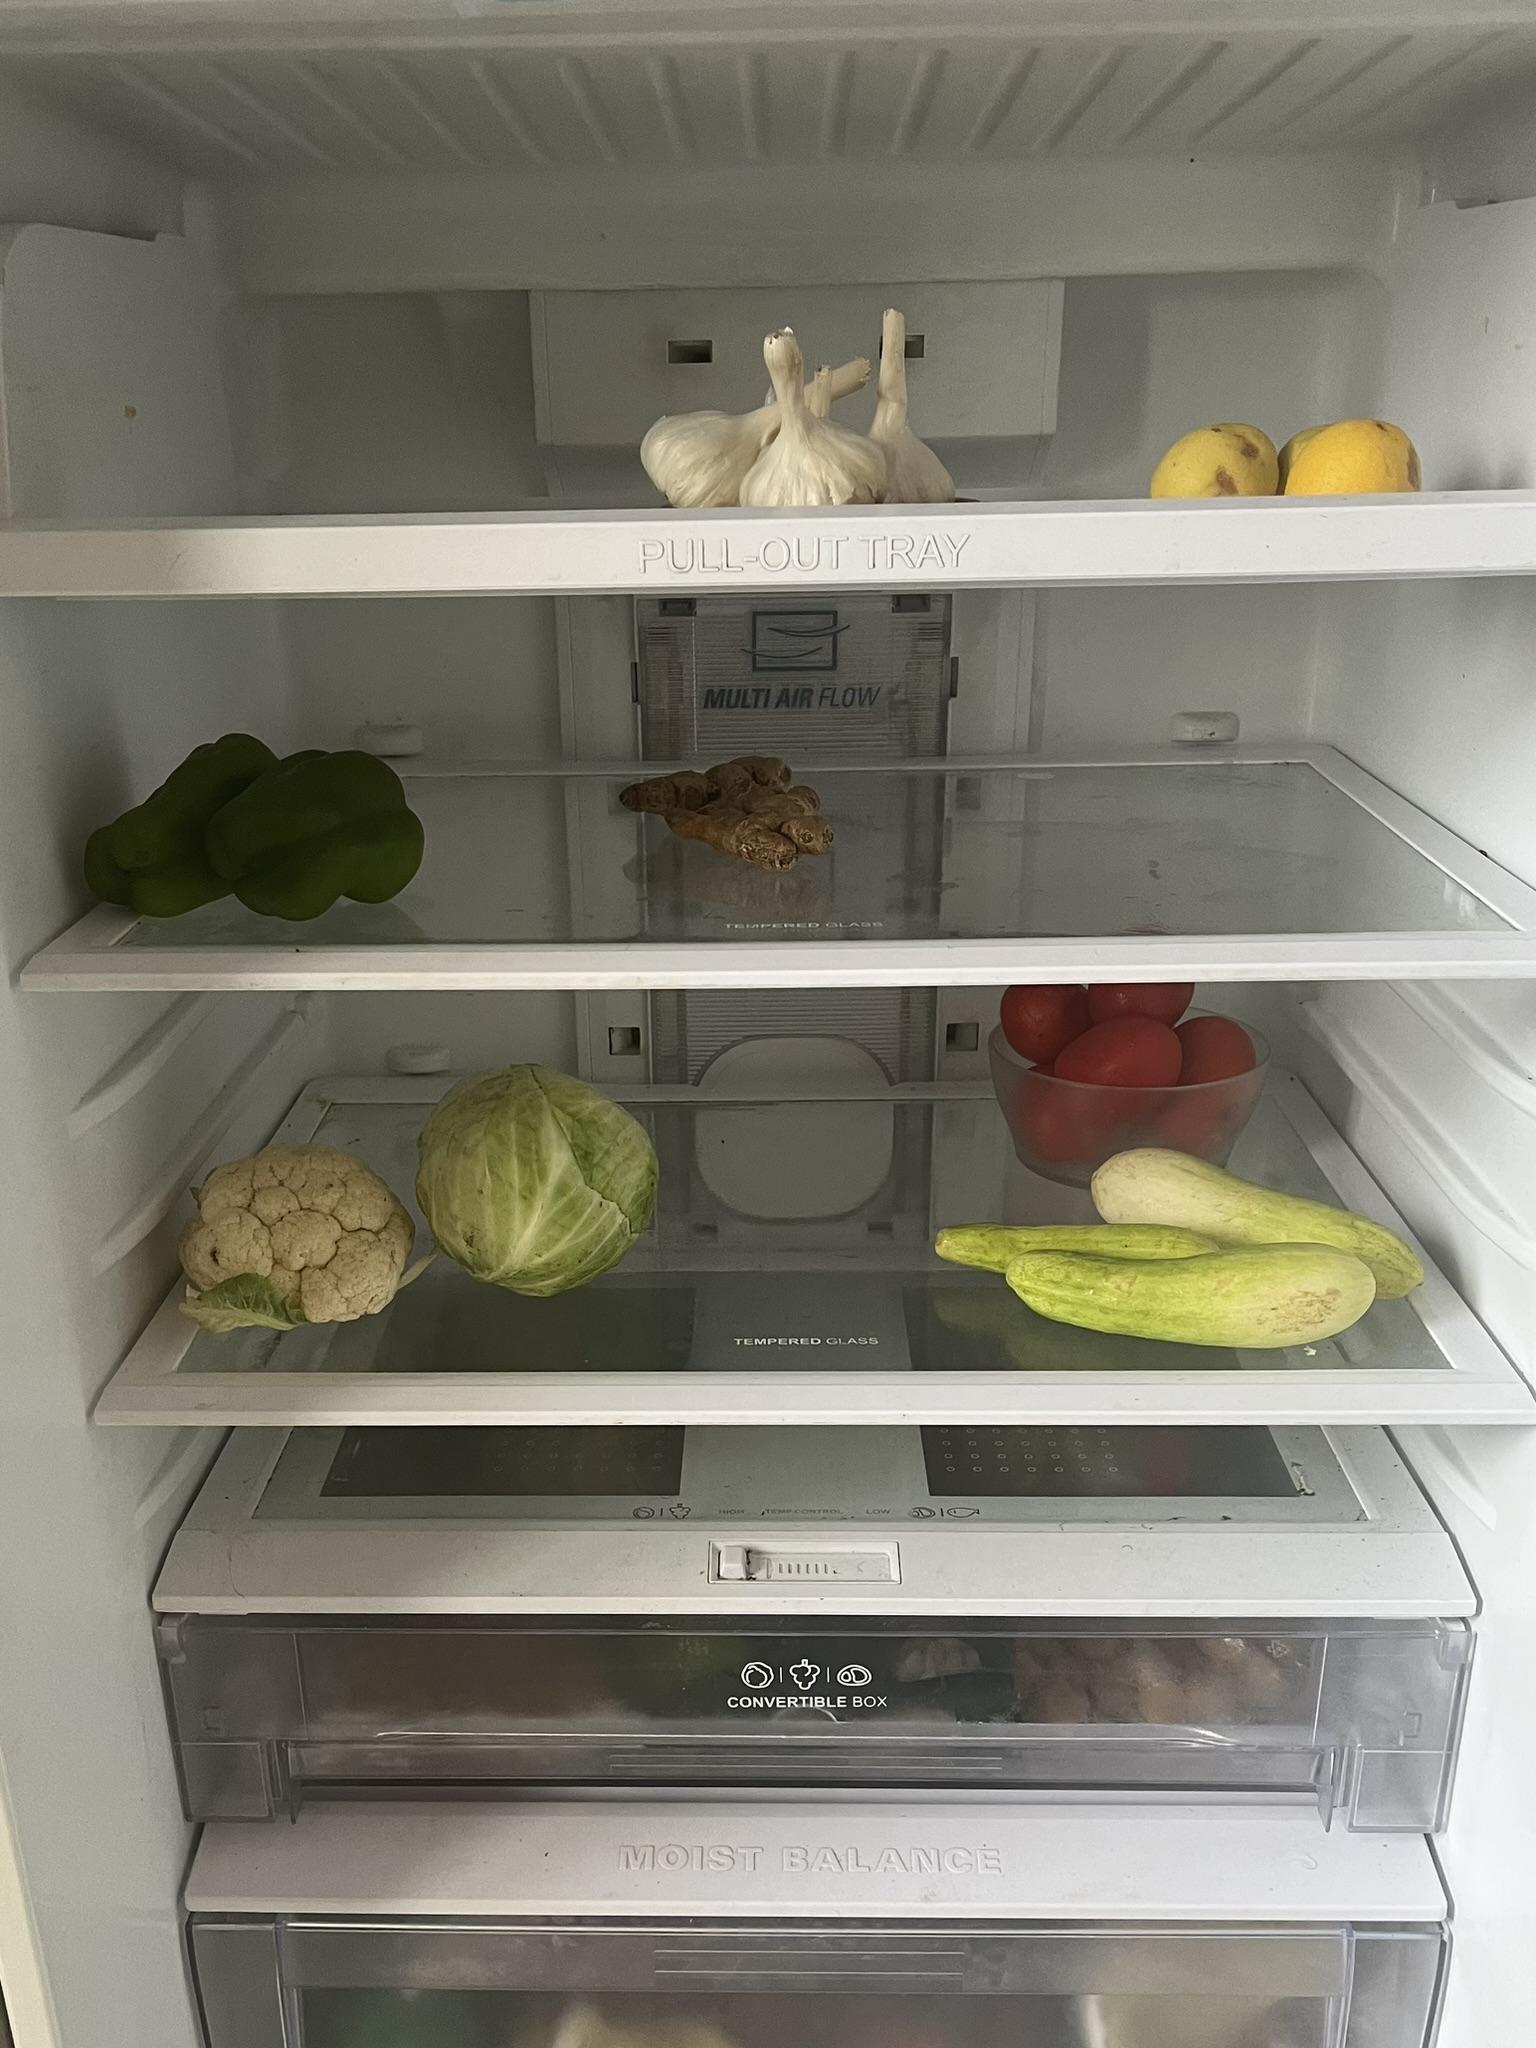cabbage: (419, 1051, 662, 1309)
capsicum: (77, 731, 434, 922)
cauliflower: (168, 1142, 419, 1340)
cucumber: (933, 1148, 1439, 1350), (979, 976, 1268, 1150)
garlic: (629, 302, 968, 510)
ginger: (611, 751, 844, 877)
lemon: (1142, 406, 1433, 500)
